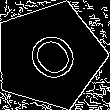O_SE: (15, 22, 84, 88)
